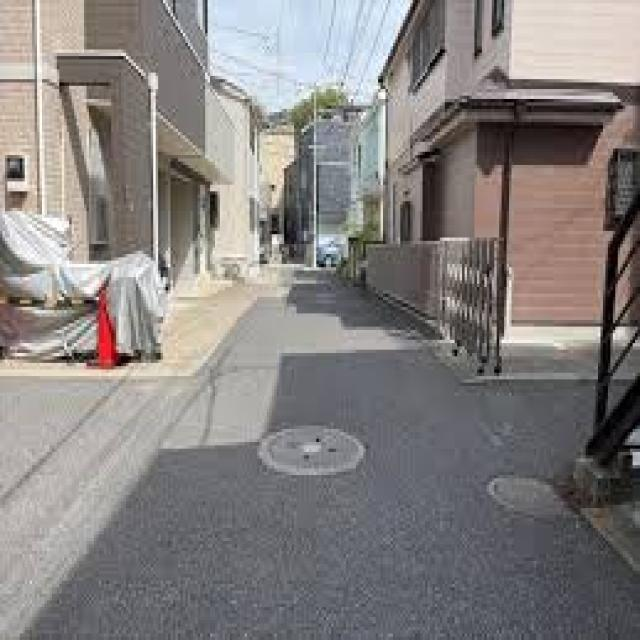manhole: (258, 425, 365, 476), (493, 477, 566, 516)
